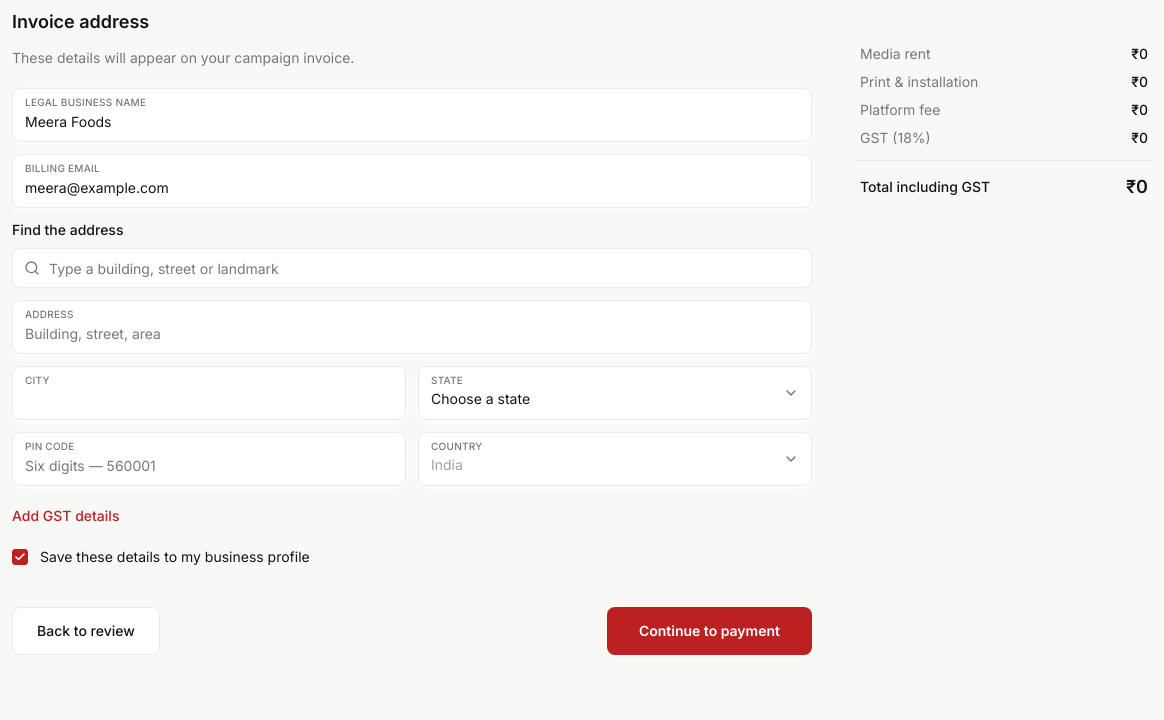
Test: Billing details — the bar over plain boxes › leaves the state alone when the place names one the list does not hold
The image size is (1164, 720).
In the dropdown labelled "Find the address": (412,268) [12,248,812,288], type "7 Indiranagar"
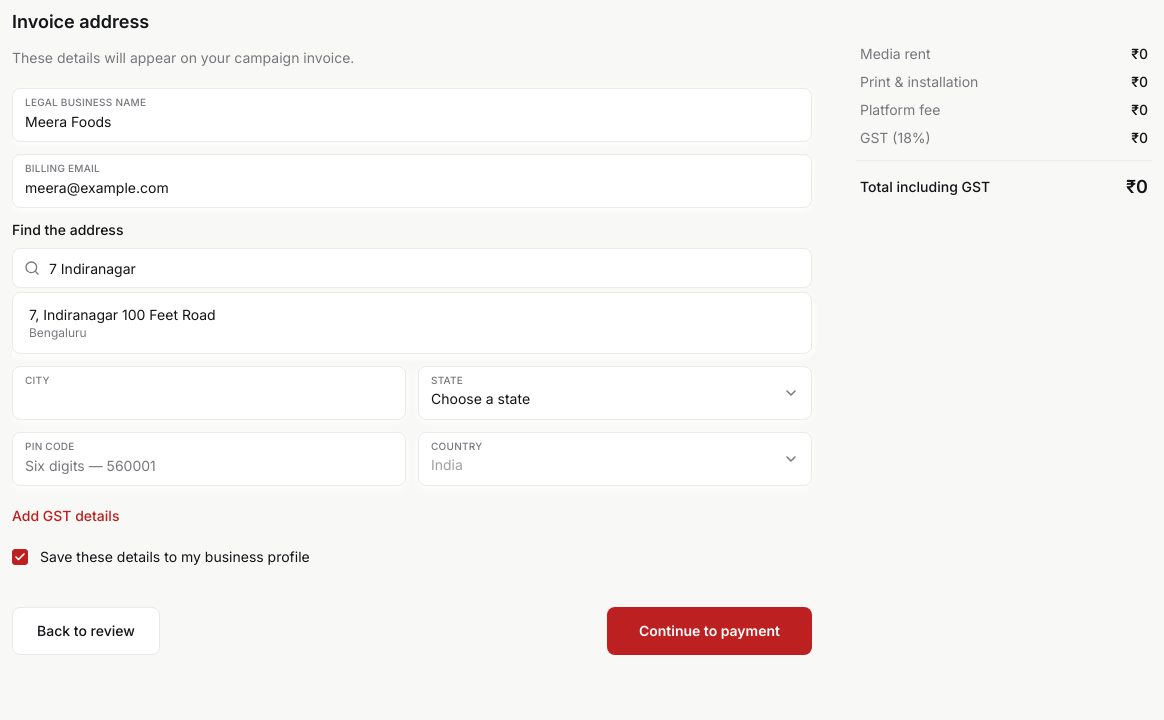
Click the option "7, Indiranagar 100 Feet Road Bengaluru": (122,314) [17,297,807,349]
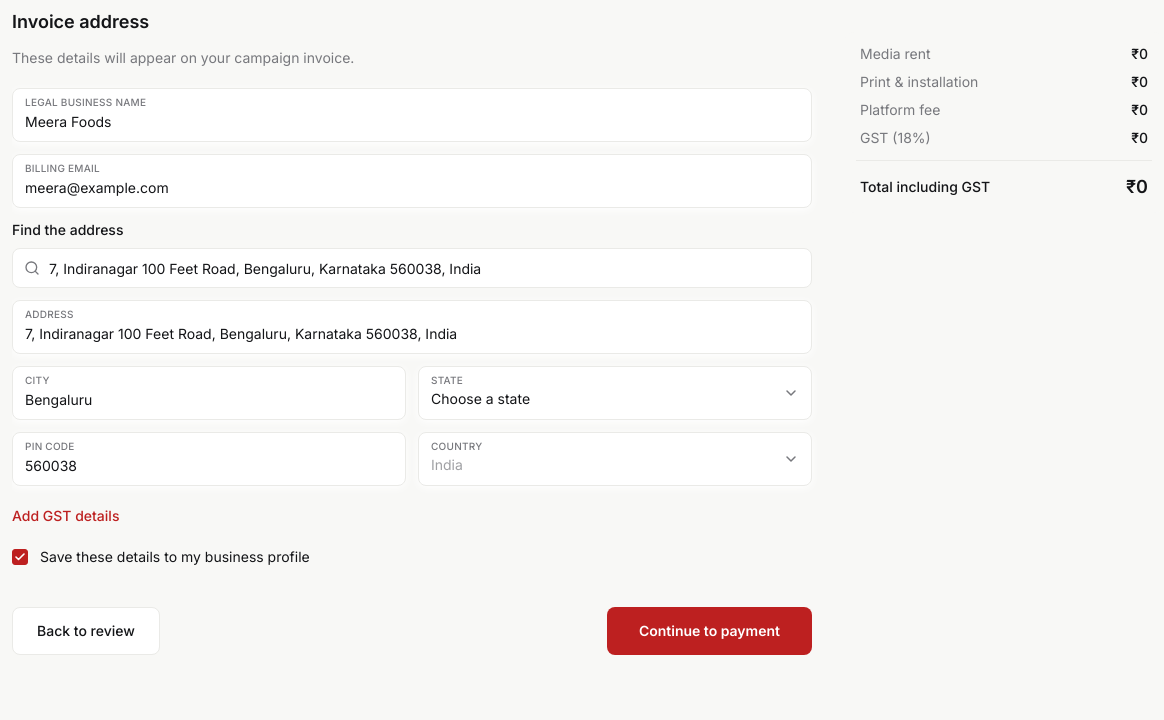
Expected: the dropdown labelled "State" shows "Choose a state", [419,367,811,419]
Now the field labelled "Address" holds "7, Indiranagar 100 Feet Road, Bengaluru, Karnataka 560038, India", box [13,301,811,353]
